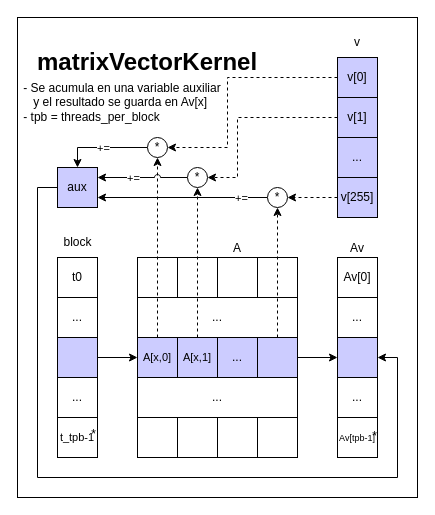
Some shapes in this 435 by 515 pixel diagram are drawn without their labels. The centre of each missing label's shape, as x and y in pixels:
"A[x,255]" belongs at [277,357].
"Av[x]" belongs at [357,357].
"tx" belongs at [77,357].
